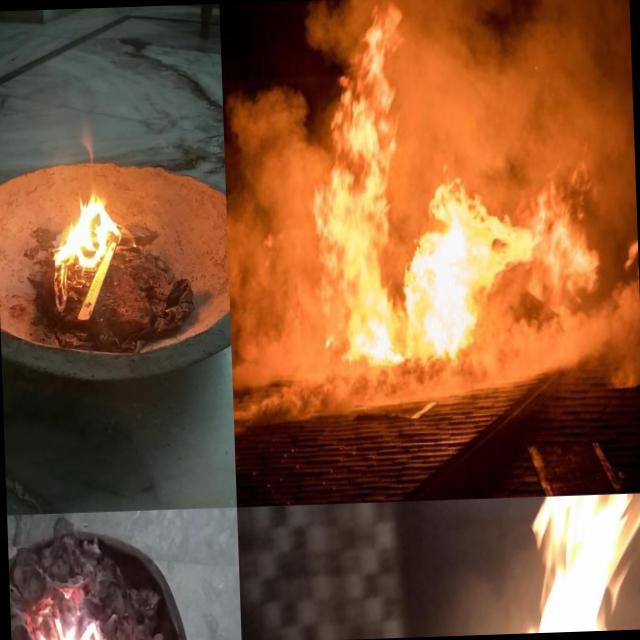fire: (399, 168, 601, 354), (305, 0, 411, 354), (452, 492, 640, 635), (8, 564, 152, 640), (54, 189, 128, 295)
smoke: (393, 0, 635, 185), (225, 84, 331, 406), (330, 346, 581, 414), (577, 228, 640, 388), (73, 125, 103, 182)
